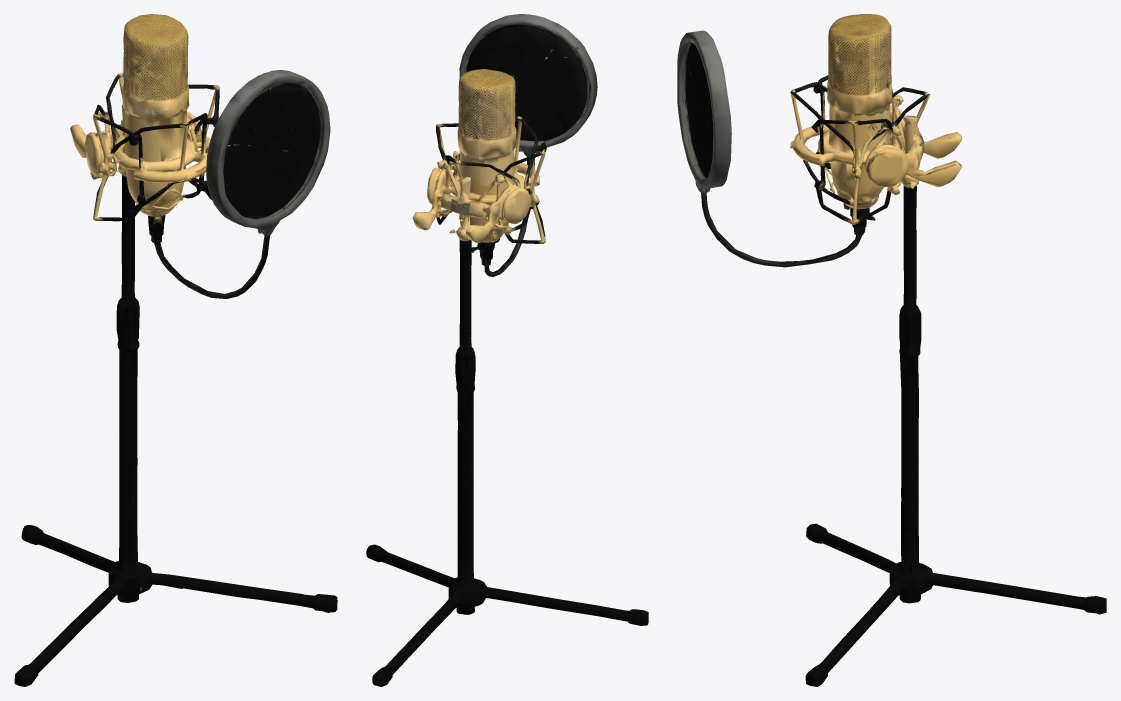
Rendered from mic.glb.
3 views of the same model, side by side, from view 1: azimuth 30°, elevation 25°; view 2: azimuth 150°, elevation 25°; view 3: azimuth 270°, elevation 25° (orthographic). The views are drawn at different scales.
Size of the model in its own units: 1.05 by 1.9 by 1.25.
Materials: 1 (1 with a texture image).
